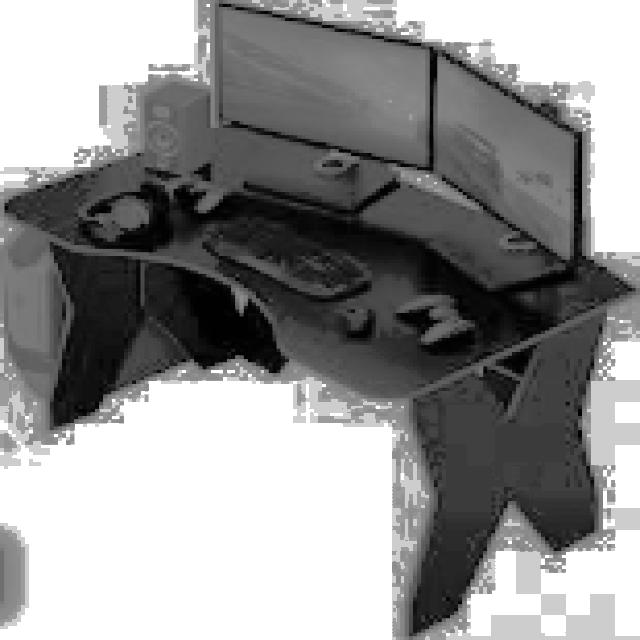table: (0, 132, 636, 636)
